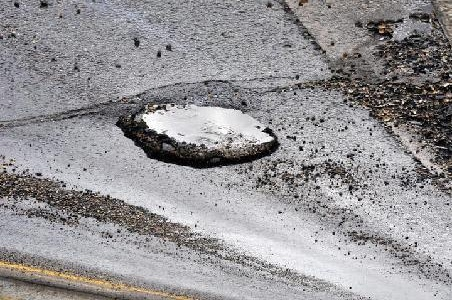pothole: (112, 102, 283, 171)
